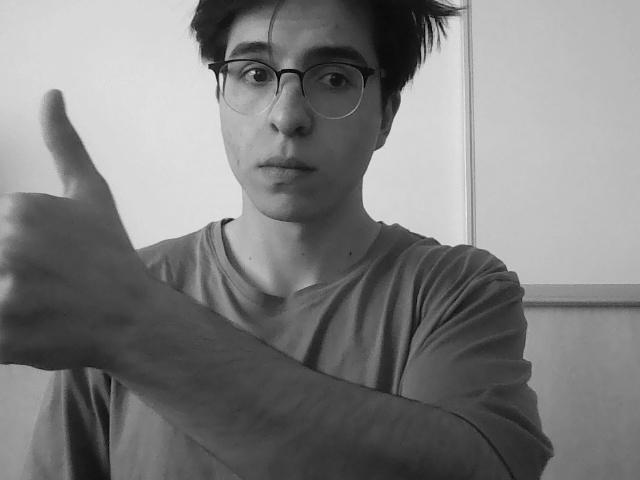good: (0, 86, 171, 372)
